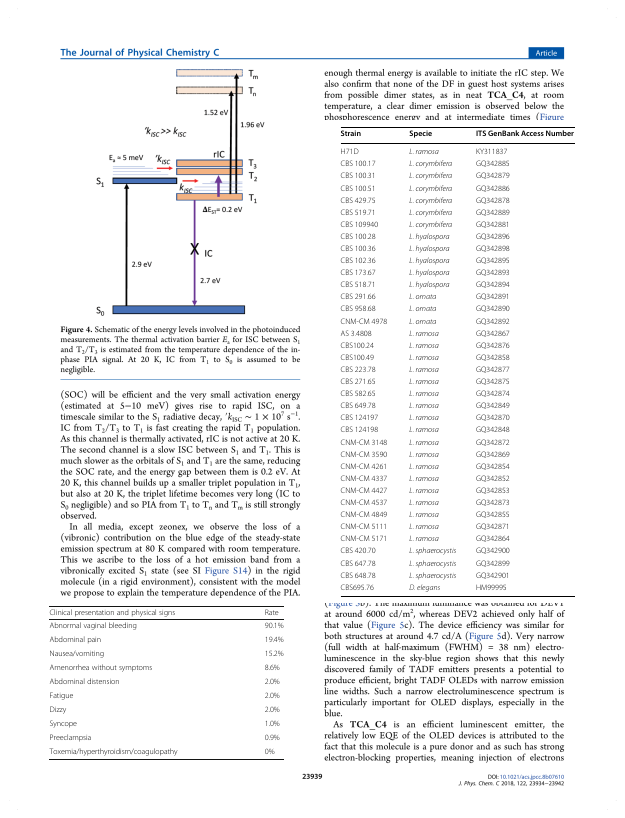borderless: (339, 125, 575, 596), (48, 604, 284, 759)
cell: (48, 747, 178, 757), (49, 608, 176, 617), (49, 663, 153, 673), (475, 129, 575, 139), (49, 621, 138, 631), (49, 677, 121, 687), (49, 649, 105, 659), (49, 635, 102, 645), (408, 546, 457, 556), (408, 159, 453, 169), (408, 171, 453, 181), (408, 559, 457, 568), (408, 571, 457, 580), (340, 498, 388, 507), (340, 510, 388, 519), (340, 522, 388, 531), (49, 733, 92, 743), (408, 244, 450, 254), (408, 256, 450, 266), (408, 268, 450, 278), (408, 280, 450, 290), (408, 184, 453, 193), (408, 196, 453, 205), (408, 208, 453, 217), (408, 220, 453, 229), (340, 317, 388, 325), (340, 438, 388, 446), (340, 450, 388, 458), (340, 462, 388, 470), (340, 474, 388, 482), (340, 486, 388, 494), (340, 535, 388, 543), (408, 232, 450, 241), (340, 244, 376, 253), (475, 244, 511, 253), (340, 256, 376, 265), (475, 256, 511, 265), (340, 268, 376, 277), (475, 268, 511, 277), (340, 377, 376, 386), (475, 377, 511, 386), (340, 389, 376, 398), (475, 389, 511, 398), (340, 401, 376, 410), (475, 401, 511, 410), (475, 498, 511, 507), (475, 510, 511, 519), (475, 522, 511, 531), (408, 147, 440, 157), (408, 365, 440, 375), (408, 377, 440, 387), (408, 389, 440, 399), (408, 401, 440, 411), (408, 413, 440, 423), (408, 425, 440, 435), (408, 486, 440, 496), (408, 498, 440, 508), (408, 510, 440, 520), (408, 522, 440, 532), (408, 534, 440, 544), (340, 220, 379, 228), (340, 414, 379, 422), (340, 426, 379, 434), (475, 147, 508, 156), (408, 583, 441, 592), (339, 160, 376, 168), (339, 172, 376, 180), (339, 184, 376, 192), (408, 292, 437, 302), (49, 719, 78, 729), (475, 160, 511, 168), (475, 172, 511, 180), (475, 184, 511, 192), (340, 196, 376, 204), (475, 196, 511, 204), (340, 208, 376, 216), (475, 208, 511, 216), (475, 220, 511, 228), (340, 232, 376, 240), (475, 232, 511, 240), (340, 281, 376, 289), (475, 281, 511, 289), (340, 293, 376, 301), (475, 293, 511, 301), (340, 305, 376, 313), (475, 305, 511, 313), (475, 317, 511, 325), (408, 329, 440, 338), (475, 329, 511, 337), (408, 341, 440, 350), (475, 341, 511, 349), (408, 353, 440, 362), (475, 353, 511, 361), (340, 365, 376, 373), (475, 365, 511, 373), (475, 414, 511, 422), (475, 426, 511, 434), (408, 438, 440, 447), (475, 438, 511, 446), (408, 450, 440, 459), (475, 450, 511, 458), (408, 462, 440, 471), (475, 462, 511, 470), (408, 474, 440, 483), (475, 474, 511, 482), (475, 486, 511, 494), (475, 535, 511, 543), (340, 547, 376, 555), (475, 547, 511, 555), (340, 559, 376, 567), (475, 559, 511, 567), (340, 571, 376, 579), (475, 571, 511, 579), (340, 341, 375, 349), (340, 353, 375, 361), (340, 583, 375, 591), (340, 329, 373, 337), (475, 583, 508, 591), (408, 305, 437, 314), (408, 317, 437, 326), (408, 129, 433, 139), (49, 691, 74, 701), (339, 129, 362, 139), (264, 621, 284, 631), (264, 635, 284, 645), (264, 649, 284, 659), (339, 147, 360, 156), (49, 705, 67, 715), (264, 663, 281, 673), (264, 677, 281, 687), (264, 691, 281, 701), (264, 705, 281, 715), (264, 719, 281, 729), (264, 733, 281, 743), (264, 608, 280, 617), (264, 747, 275, 757)
